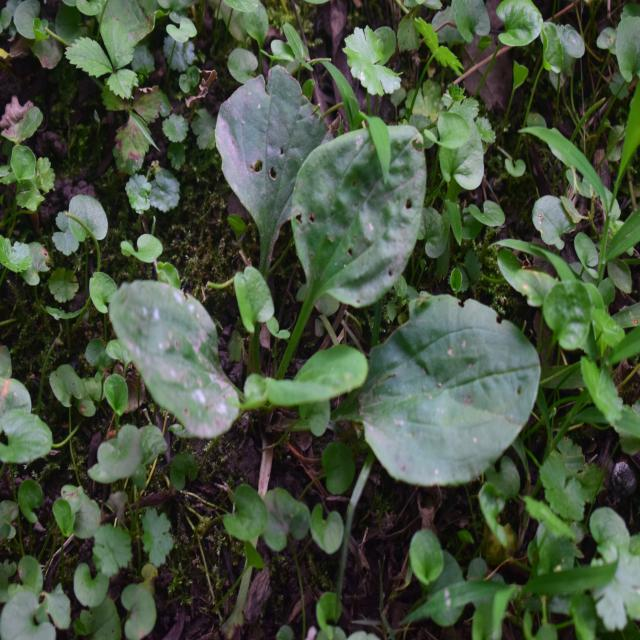plantain: (138, 82, 526, 512)
